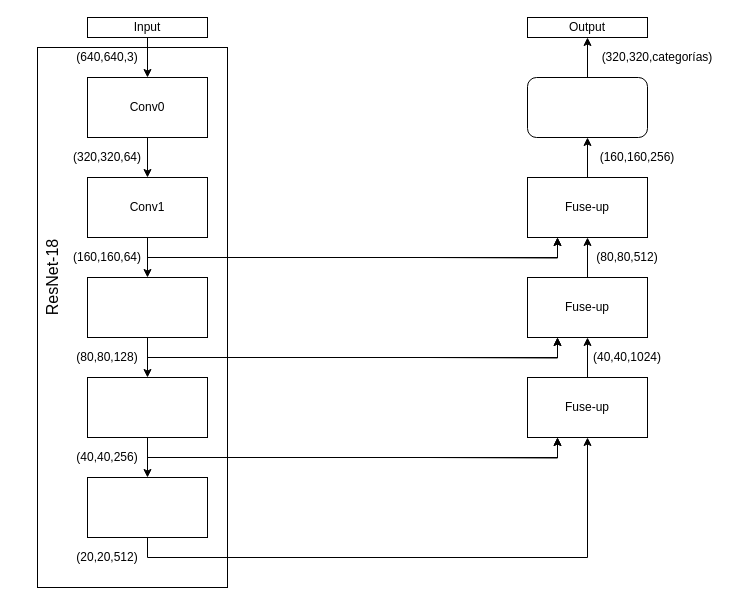
The diagram is 730 pixels wide and 605 high, and some of its shapes have lost their labels. The shapes that lost their labels are listed below. From the top down, each one's centre as x and y in pixels, then its label:
the point at 587,107: Convolución Traspuesta (2x2,categorías)
the point at 147,307: Conv2
the point at 147,407: Conv3
the point at 147,507: Conv4
